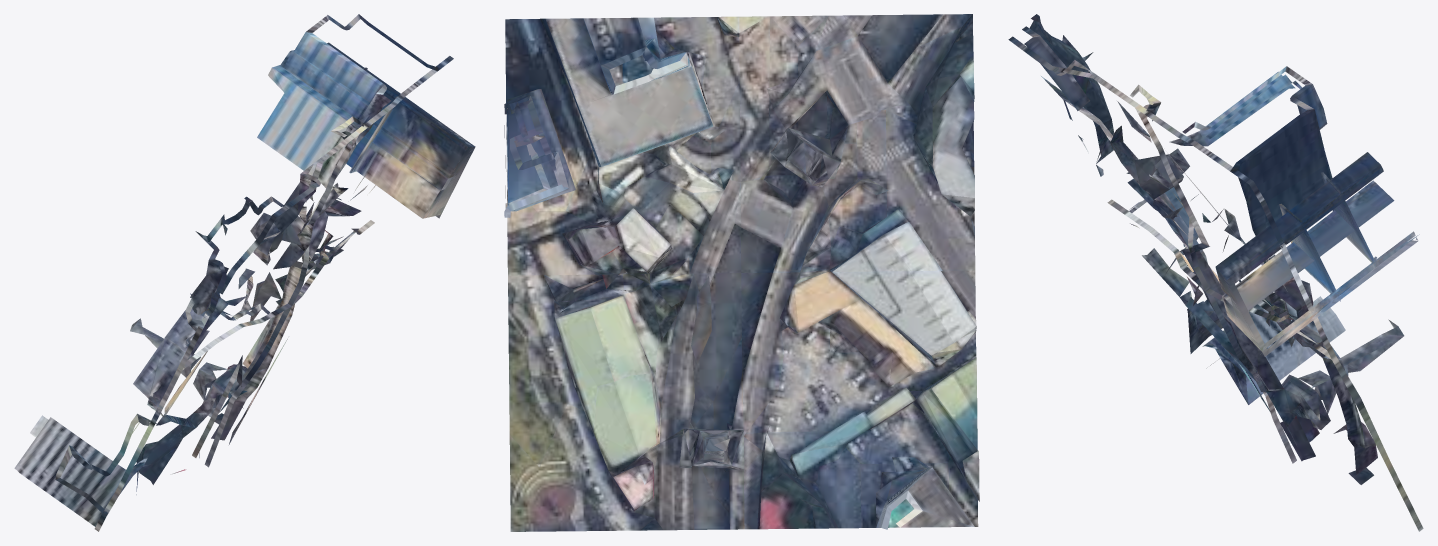
3 views of the same model, side by side, from view 1: azimuth 30°, elevation 25°; view 2: azimuth 150°, elevation 25°; view 3: azimuth 270°, elevation 25° (orthographic). The views are drawn at different scales.
Size of the model in its own units: 173 by 158 by 133.
1 material, 1 textured.
